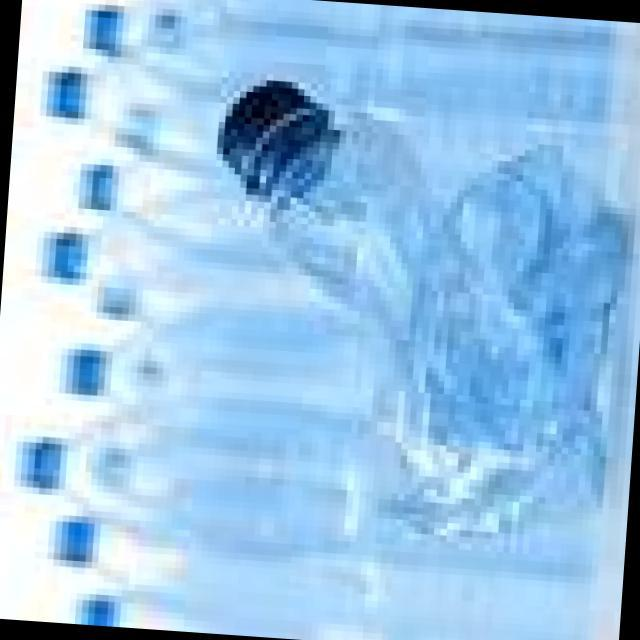defected: (190, 70, 640, 577)
